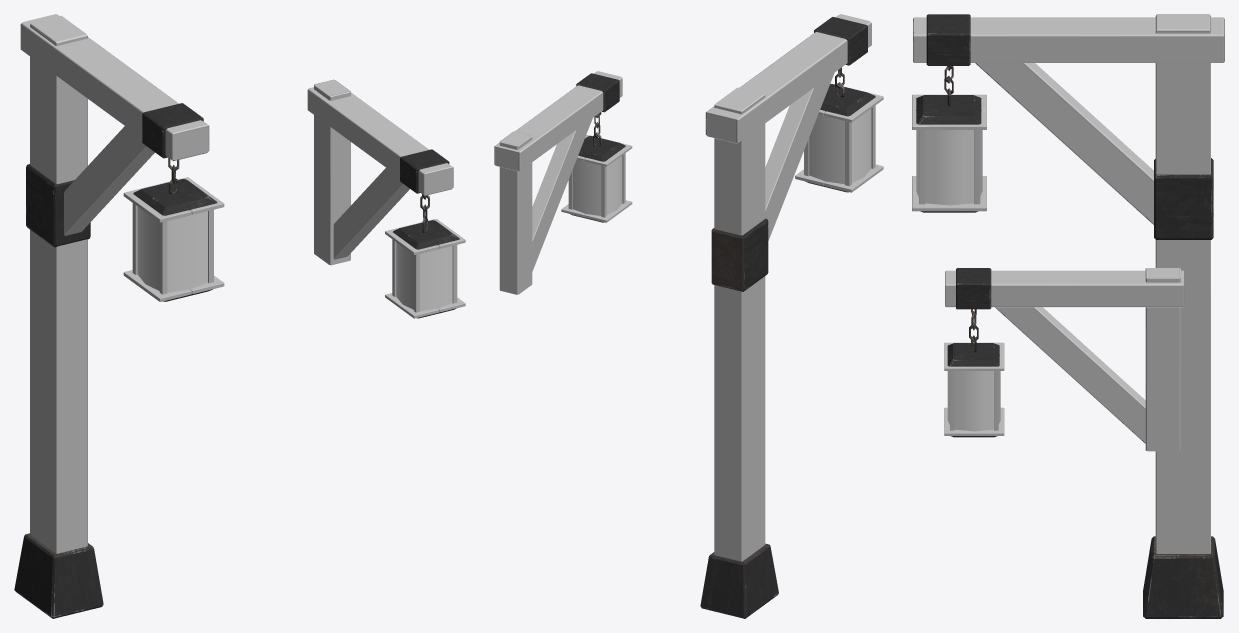
The model's file is Lanterns_1A1.fbx.
The picture shows the model from 3 angles, left to right: view 1: azimuth 30°, elevation 25°; view 2: azimuth 150°, elevation 25°; view 3: azimuth 270°, elevation 25°; orthographic projection. The views are drawn at different scales.
Visible parts, largest first — view 1: Street_Lantern_1A1, House_Lantern_1A1; view 2: Street_Lantern_1A1, House_Lantern_1A1; view 3: Street_Lantern_1A1, House_Lantern_1A1.
Part boxes in pixels (x1,y1,x2,y2): Street_Lantern_1A1: [14, 14, 224, 618]; House_Lantern_1A1: [307, 79, 465, 318]; Street_Lantern_1A1: [700, 14, 883, 618]; House_Lantern_1A1: [494, 71, 632, 294]; Street_Lantern_1A1: [912, 14, 1224, 618]; House_Lantern_1A1: [944, 268, 1184, 451].
Size of the model in its own units: 244 by 414 by 200.
